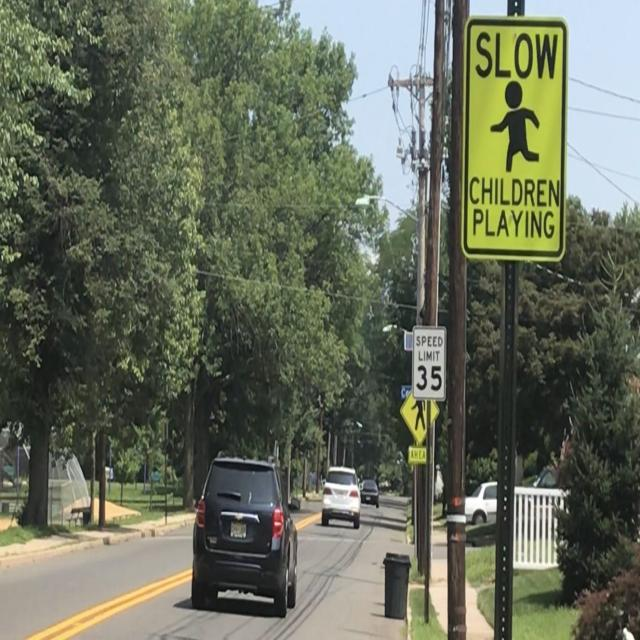speedLimit35: (412, 324, 445, 404)
